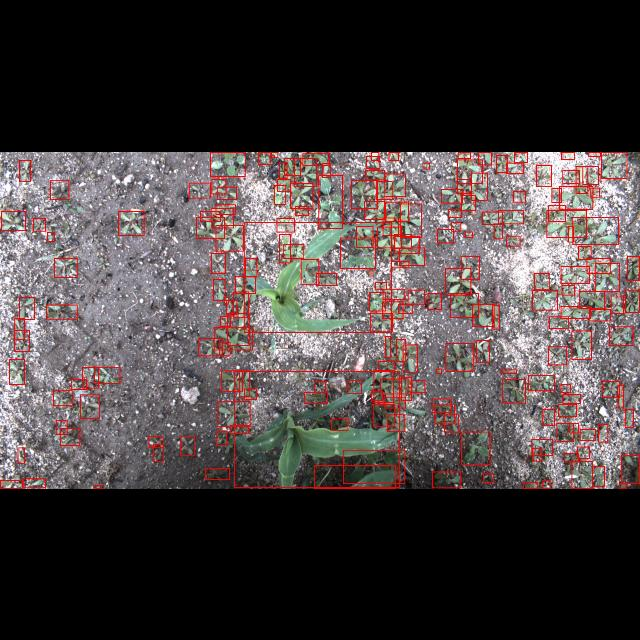crop: (234, 371, 400, 487), (245, 222, 392, 332), (314, 466, 396, 488)
weed: (343, 450, 405, 482), (573, 216, 619, 244), (319, 175, 343, 228), (340, 236, 376, 268), (546, 209, 586, 237), (462, 432, 491, 464), (210, 152, 246, 176), (214, 327, 252, 349), (218, 402, 250, 426), (446, 343, 472, 371), (351, 180, 377, 208), (216, 224, 244, 250), (594, 263, 620, 291), (401, 203, 422, 237), (227, 313, 249, 345), (560, 186, 592, 208), (449, 293, 478, 317), (601, 152, 627, 178), (118, 210, 144, 236), (373, 370, 393, 402), (446, 268, 470, 294), (196, 216, 224, 238), (294, 157, 316, 185), (572, 329, 592, 358), (502, 379, 526, 403), (458, 159, 482, 183), (291, 182, 313, 208), (376, 226, 402, 248), (621, 454, 639, 484), (572, 462, 592, 488), (532, 289, 558, 309), (560, 266, 590, 282), (1, 210, 25, 230), (80, 394, 100, 418), (579, 290, 605, 308), (94, 366, 120, 384), (301, 258, 319, 284), (472, 304, 493, 326), (385, 172, 405, 195), (433, 472, 461, 488), (46, 304, 78, 318), (402, 344, 418, 372), (380, 378, 408, 394), (471, 172, 487, 200), (394, 235, 420, 252), (386, 201, 408, 221), (374, 404, 394, 426), (461, 255, 479, 279), (54, 258, 78, 276), (198, 338, 222, 356), (400, 247, 424, 265), (371, 313, 393, 332), (528, 374, 554, 390), (435, 404, 455, 424), (212, 207, 232, 227), (222, 370, 242, 390), (610, 326, 632, 344), (10, 358, 24, 384), (234, 291, 248, 317), (60, 428, 80, 446), (561, 306, 591, 318), (364, 201, 384, 219), (536, 164, 552, 186), (83, 367, 99, 388), (357, 226, 373, 247), (586, 258, 610, 272), (548, 346, 566, 364), (50, 180, 68, 198), (368, 292, 386, 310), (556, 423, 574, 441), (576, 165, 588, 192), (235, 276, 255, 292), (383, 302, 403, 318), (532, 439, 552, 455), (303, 152, 329, 164), (498, 210, 524, 222), (20, 297, 34, 319), (625, 290, 639, 312), (15, 330, 30, 350), (602, 381, 620, 397), (627, 256, 639, 280), (548, 205, 566, 221), (54, 390, 72, 406), (376, 180, 392, 198), (388, 414, 404, 432), (582, 165, 598, 183), (476, 340, 489, 362), (181, 436, 195, 456), (432, 398, 452, 412), (211, 252, 225, 272), (190, 182, 210, 196), (284, 243, 304, 257), (280, 234, 290, 262), (442, 188, 462, 202), (285, 158, 301, 175), (205, 468, 229, 479), (383, 288, 405, 300), (213, 278, 225, 300), (240, 370, 250, 396), (534, 273, 550, 289), (444, 414, 458, 432), (276, 217, 294, 231), (384, 217, 398, 235), (394, 233, 412, 247), (610, 295, 624, 313), (562, 169, 580, 183), (384, 397, 406, 408), (549, 316, 569, 328), (316, 272, 336, 284), (304, 392, 328, 402), (592, 466, 604, 486), (482, 211, 502, 223), (401, 376, 411, 399), (408, 289, 424, 303), (437, 228, 453, 242), (212, 178, 226, 194), (461, 194, 475, 210), (15, 317, 25, 339), (396, 339, 406, 361), (496, 154, 508, 172), (218, 186, 236, 198), (245, 258, 257, 276), (559, 404, 577, 416), (23, 478, 44, 488), (20, 160, 30, 180), (216, 204, 236, 214), (200, 211, 220, 221), (590, 310, 610, 320), (457, 178, 471, 192), (543, 409, 555, 425), (492, 304, 500, 328), (428, 293, 440, 309), (274, 184, 284, 203), (348, 381, 362, 394), (598, 424, 608, 442), (624, 409, 634, 427), (366, 169, 384, 179), (506, 162, 524, 172), (0, 480, 22, 488), (332, 418, 348, 429), (580, 428, 596, 439), (153, 444, 163, 461), (478, 152, 492, 164), (578, 246, 592, 258), (562, 393, 580, 402), (552, 186, 562, 202), (71, 379, 87, 389), (378, 360, 394, 370), (366, 155, 379, 167), (216, 431, 227, 445), (230, 425, 248, 433), (412, 380, 424, 392), (258, 151, 270, 163), (33, 218, 45, 230), (278, 178, 290, 190), (149, 436, 163, 446), (56, 420, 66, 434), (398, 303, 412, 313), (514, 151, 528, 161), (220, 341, 230, 355), (227, 300, 237, 314), (564, 452, 578, 462), (506, 235, 520, 245), (314, 381, 326, 392), (578, 447, 590, 458), (279, 161, 287, 177), (494, 222, 502, 238), (532, 448, 542, 460), (513, 191, 525, 201), (245, 389, 257, 399), (562, 285, 574, 295), (322, 163, 330, 177), (448, 209, 462, 217), (391, 261, 409, 267), (220, 316, 230, 326), (372, 391, 382, 401), (18, 447, 24, 463), (618, 384, 622, 408), (296, 206, 308, 214), (484, 473, 494, 482), (561, 383, 571, 392), (524, 482, 538, 488), (568, 226, 574, 240), (389, 151, 399, 159), (386, 336, 390, 356), (570, 423, 578, 433), (590, 188, 600, 196), (562, 152, 574, 158), (452, 222, 461, 230), (458, 151, 470, 157), (542, 480, 550, 488), (371, 151, 379, 159), (376, 282, 386, 288), (502, 369, 516, 373), (588, 151, 600, 155), (465, 231, 473, 237), (48, 232, 54, 240), (436, 368, 442, 374), (424, 162, 430, 168), (224, 296, 228, 304), (95, 484, 102, 488), (620, 484, 626, 488), (272, 152, 278, 156)
